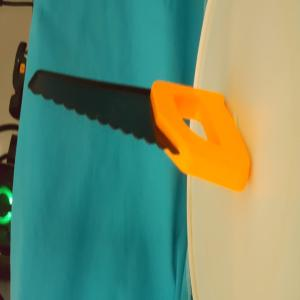serrote: (28, 70, 251, 194)
